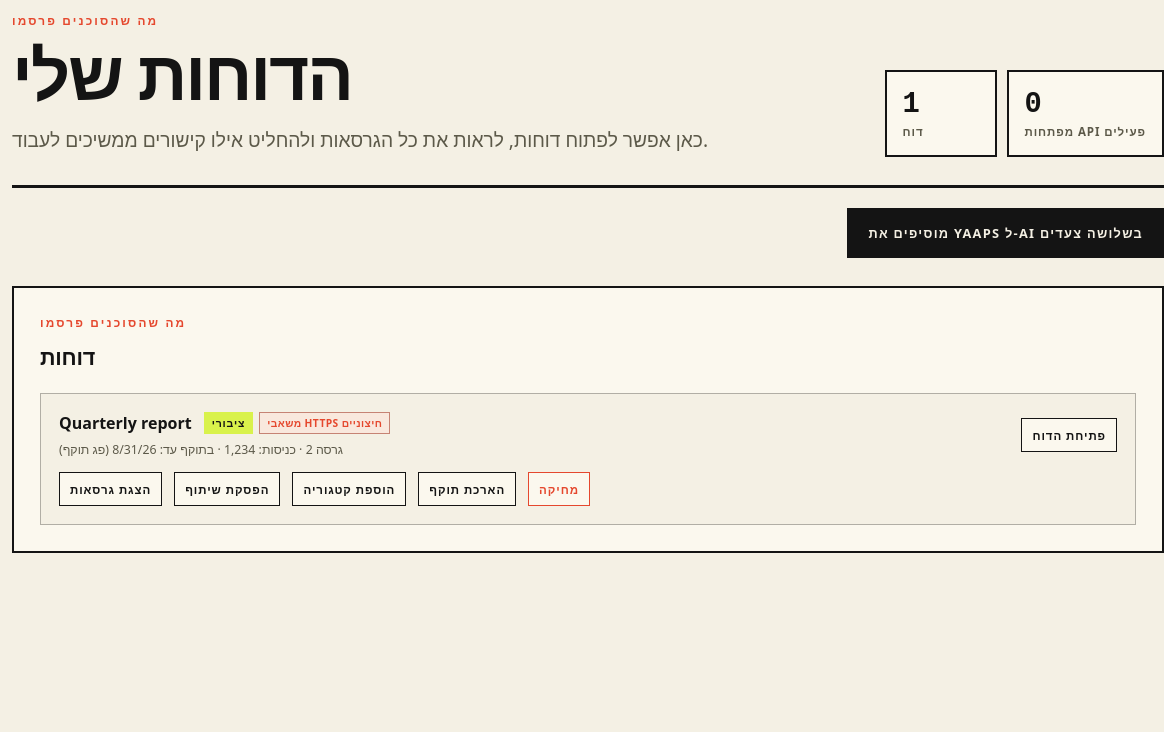
Test: signed-in management dashboard › labels the latest report and every saved version with its resource policy in Hebrew
Step 1. Click the button "הצגת גרסאות" → (111, 489), box [59,472,162,506]
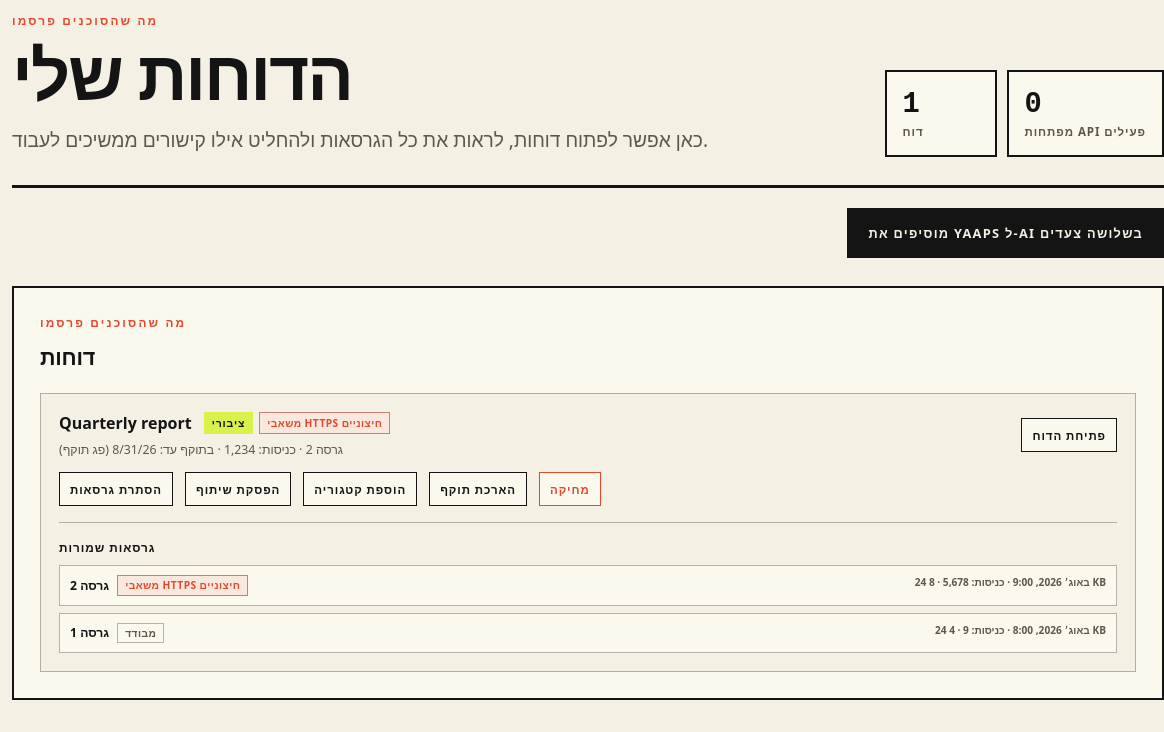
Expected: the text "משאבי HTTPS חיצוניים" is shown 2 times, [259,412,390,434]; [117,575,248,596]
